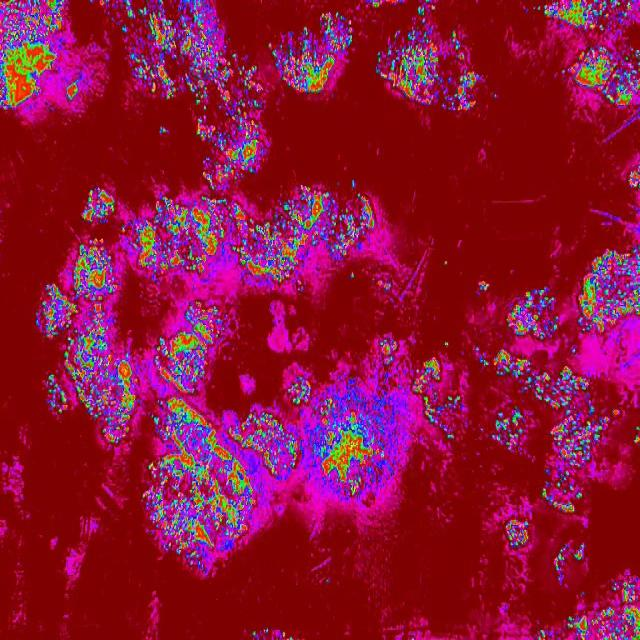fire: (140, 398, 300, 582), (132, 186, 374, 290), (35, 233, 136, 448), (94, 0, 238, 100), (300, 398, 400, 506), (374, 16, 480, 116), (540, 364, 604, 515), (266, 8, 356, 96), (152, 298, 232, 397), (0, 0, 63, 111), (191, 99, 268, 187), (576, 247, 640, 335), (563, 41, 640, 105), (409, 354, 463, 445), (529, 0, 640, 36), (476, 346, 543, 403), (504, 287, 562, 339), (606, 570, 640, 640), (488, 404, 526, 454), (563, 607, 606, 640), (82, 186, 116, 222), (238, 58, 266, 101), (377, 329, 398, 368), (506, 516, 532, 546), (248, 625, 294, 640), (554, 542, 568, 583), (64, 76, 84, 104), (288, 377, 312, 398), (628, 160, 640, 190), (604, 407, 618, 432), (572, 539, 586, 562), (416, 0, 436, 16), (534, 625, 552, 640), (362, 0, 388, 9), (631, 422, 640, 448), (378, 279, 394, 293), (477, 280, 491, 294), (156, 124, 170, 136), (322, 576, 332, 586), (119, 222, 128, 232), (443, 259, 450, 269), (444, 339, 450, 350), (350, 177, 357, 186), (492, 91, 499, 99)
